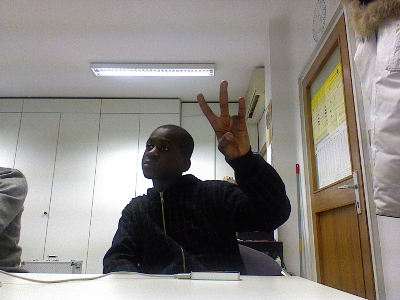观音: (196, 79, 250, 159)
